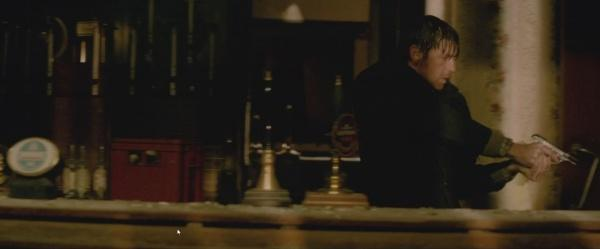Gun: (530, 132, 580, 168)
